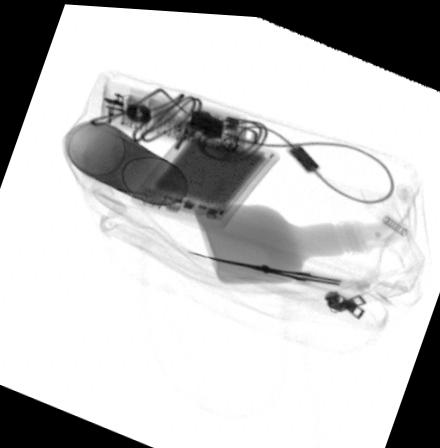Powerbank: (127, 119, 277, 228)
Scissors: (184, 243, 370, 292)
